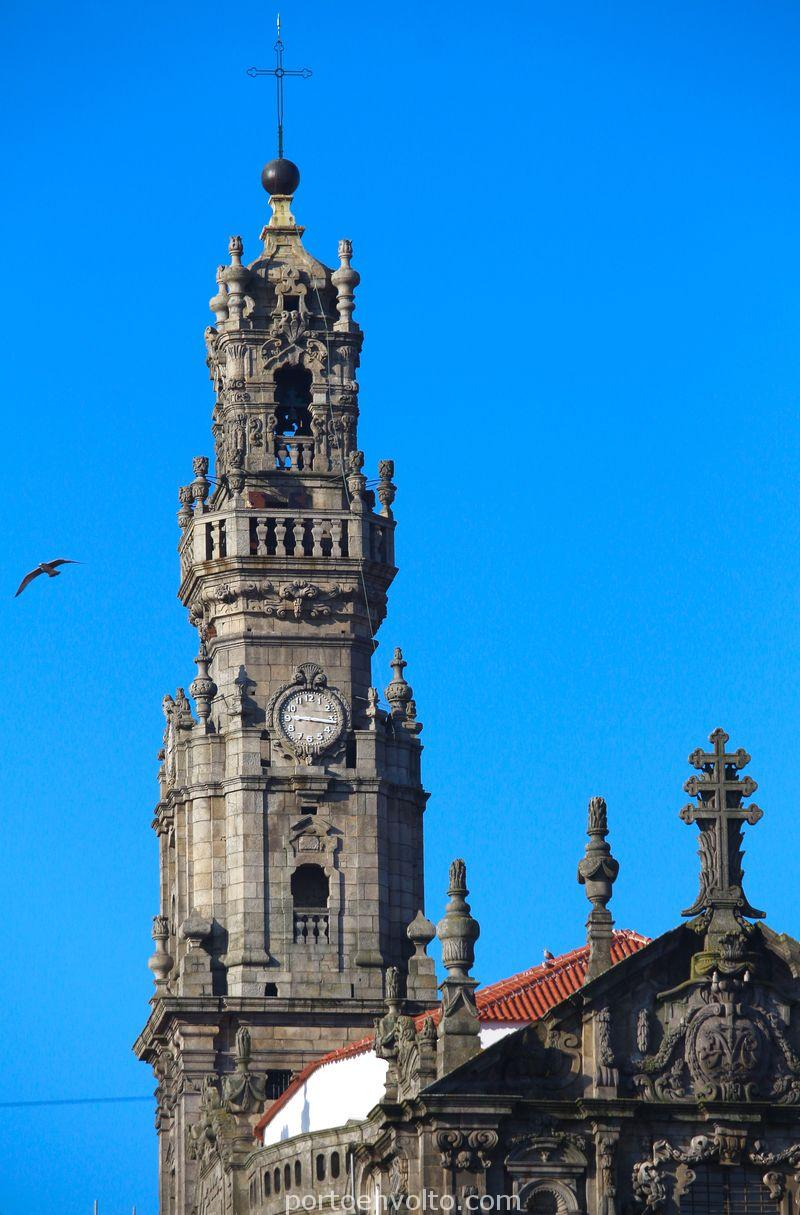clerigos: (130, 15, 437, 1214)
